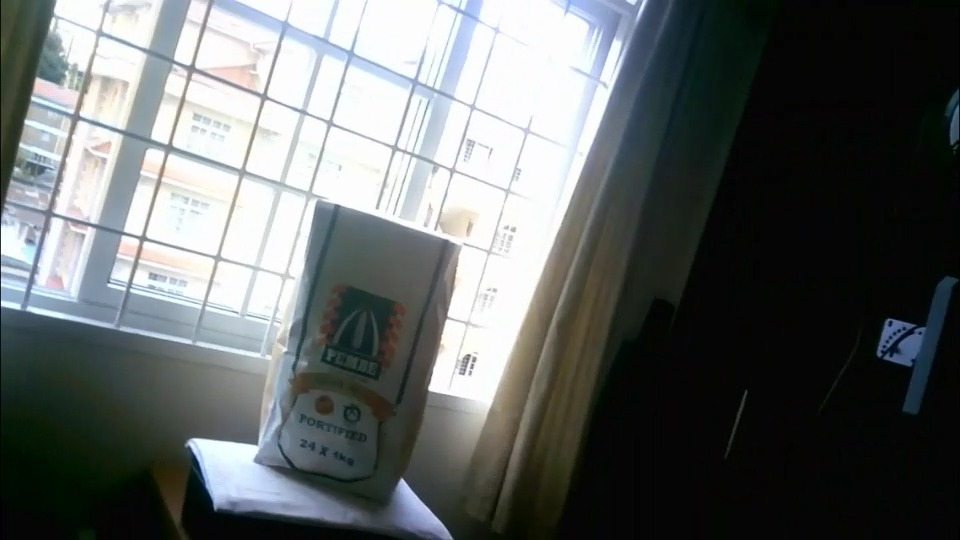maize_flour_green_label: (254, 203, 458, 504)
